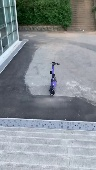beam: (48, 61, 63, 96)
